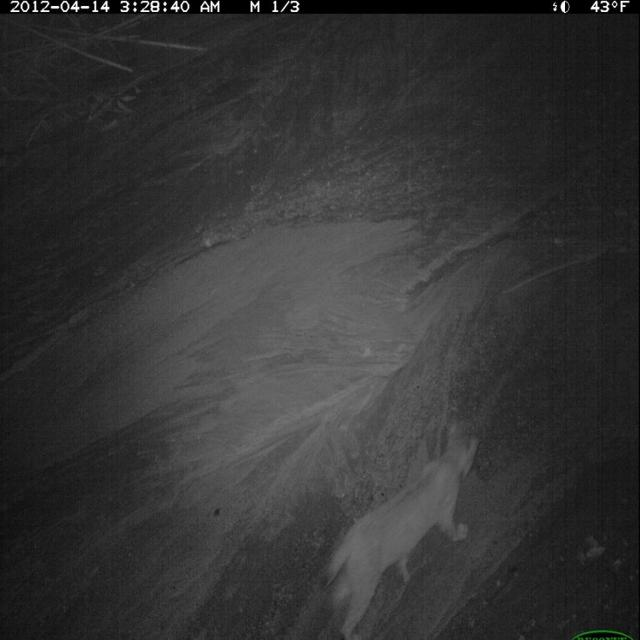bobcat: (321, 417, 482, 640)
